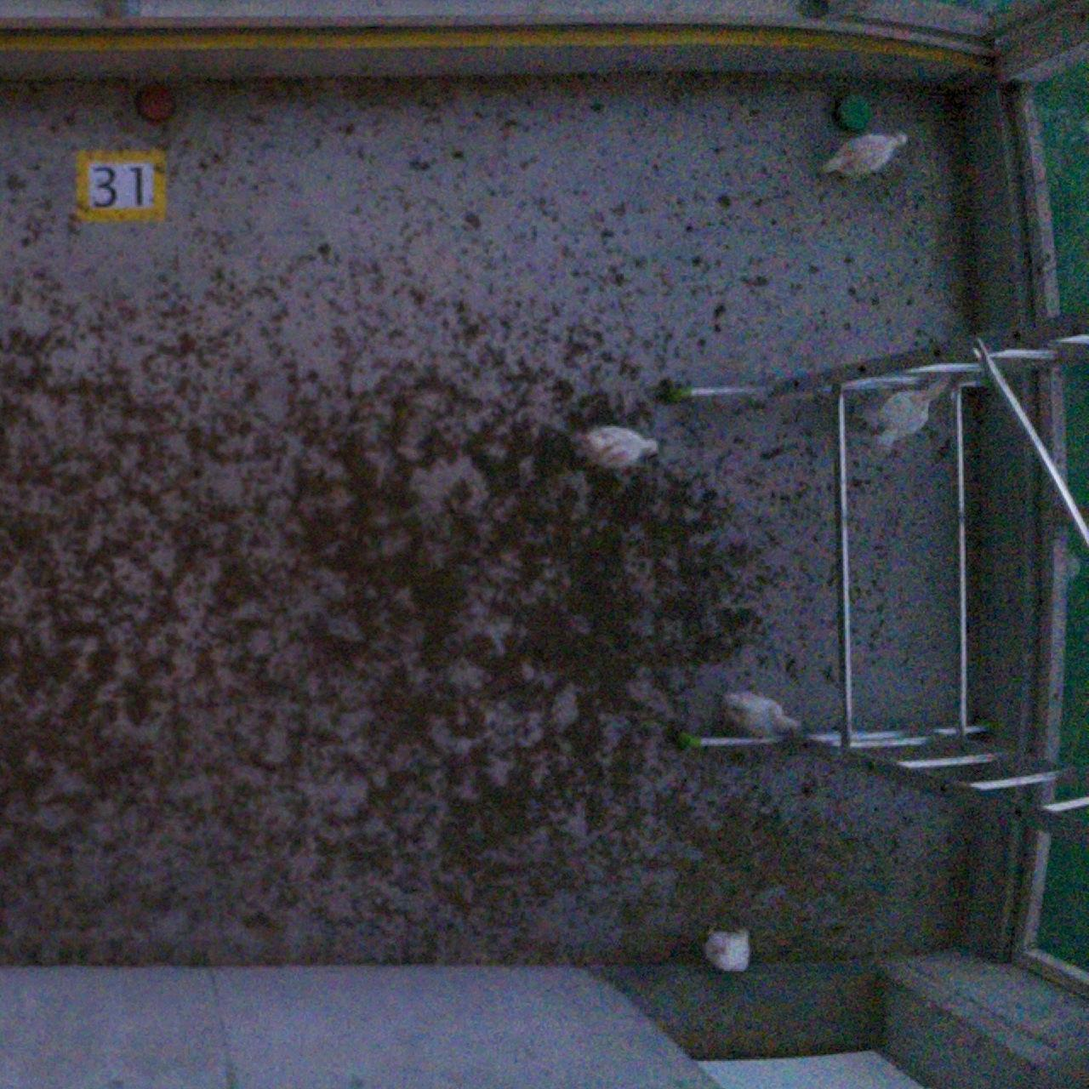chicken: (569, 411, 673, 489), (862, 370, 956, 456), (815, 129, 915, 195), (722, 688, 809, 741), (701, 916, 769, 981)
